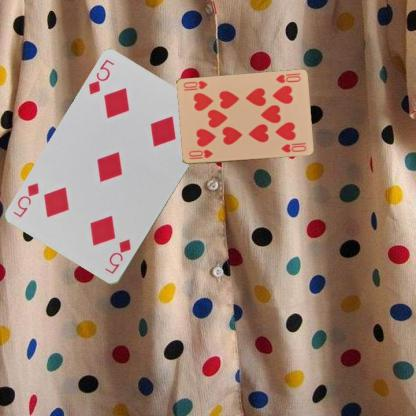10h: (186, 147, 214, 161), (273, 72, 302, 84)
5d: (86, 57, 116, 97), (102, 237, 132, 275)
